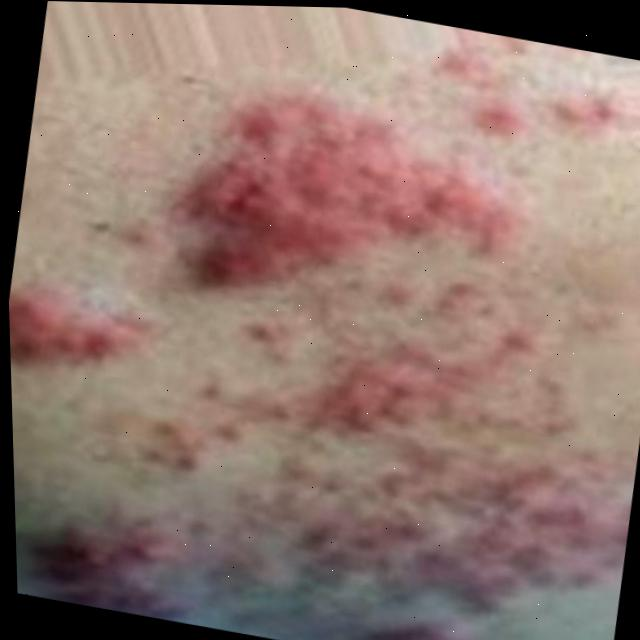Shingles: (0, 7, 640, 640)
